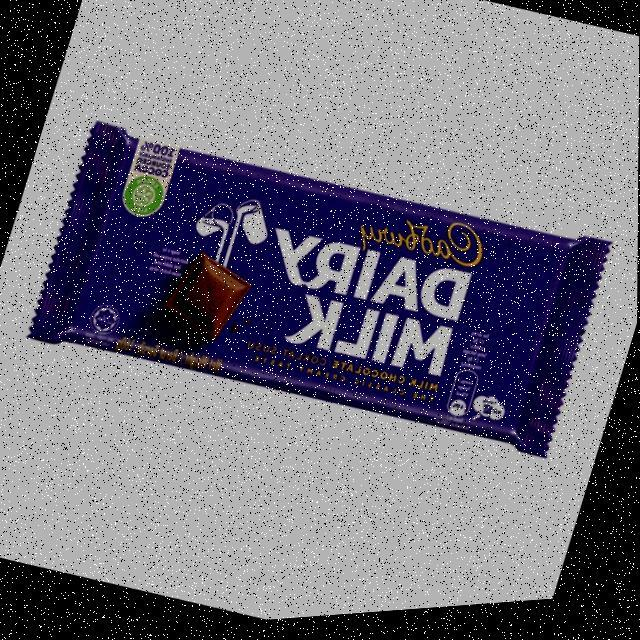cadbury_chocolate: (90, 132, 568, 445)
